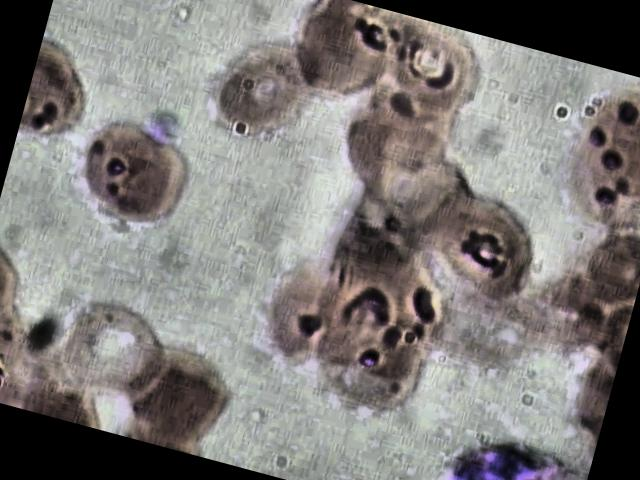Platelets: (140, 106, 188, 150)
RBC: (52, 105, 210, 244), (200, 28, 330, 154), (416, 186, 546, 312), (370, 12, 500, 138), (44, 292, 174, 418), (113, 336, 243, 460), (276, 0, 406, 112), (323, 100, 448, 213), (556, 70, 640, 209), (18, 35, 106, 146), (254, 260, 342, 370)
WBC: (435, 419, 585, 480)
